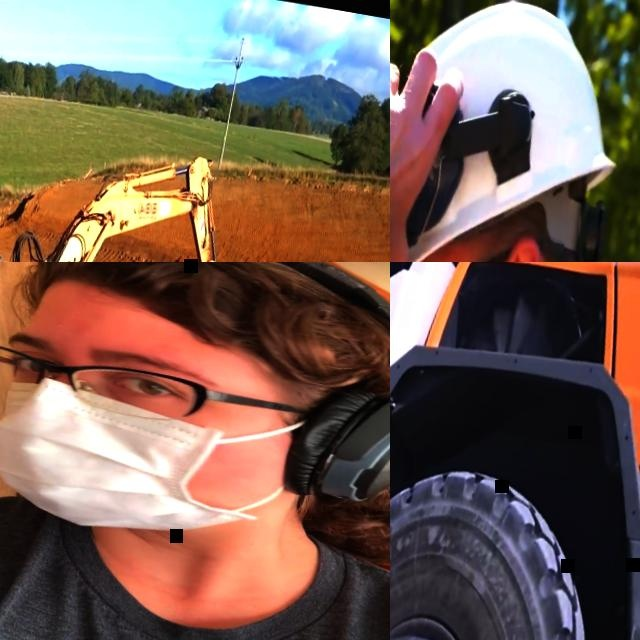Hardhat: (390, 0, 640, 262)
Mask: (0, 368, 320, 564)
NO-Hardhat: (17, 262, 390, 397)
NO-Safety Vest: (0, 483, 390, 640)
Person: (0, 262, 390, 640), (390, 0, 640, 262)
machinery: (390, 262, 640, 640), (0, 114, 240, 262)
